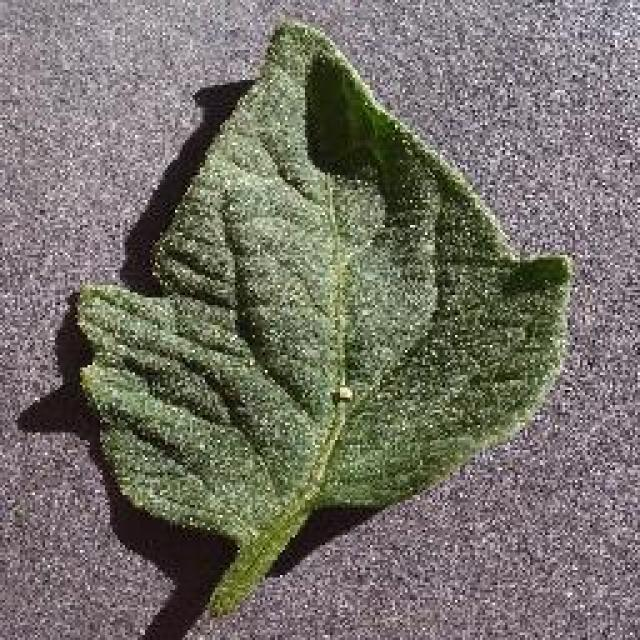Tomato___healthy: (65, 17, 578, 623)
